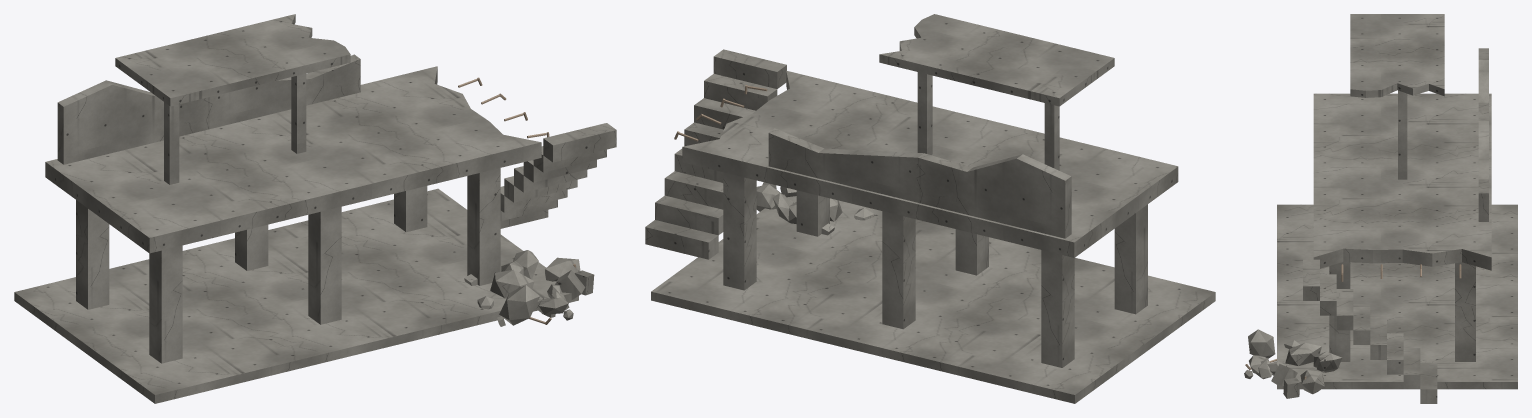
The model's file is Elevated_Platform.fbx.
3 renders of one model, left to right at view 1: azimuth 30°, elevation 25°; view 2: azimuth 150°, elevation 25°; view 3: azimuth 270°, elevation 25°, orthographic. The views are drawn at different scales.
Visible parts, largest first — view 1: Elevated_Platform; view 2: Elevated_Platform; view 3: Elevated_Platform.
Part boxes in pixels (left/top/right/bottom): Elevated_Platform: left=14, top=14, right=616, bottom=403; Elevated_Platform: left=645, top=14, right=1215, bottom=403; Elevated_Platform: left=1244, top=14, right=1517, bottom=403.
Size of the model in its own units: 9 by 4.73 by 5.23.
Materials: 2 (1 with a texture image).
